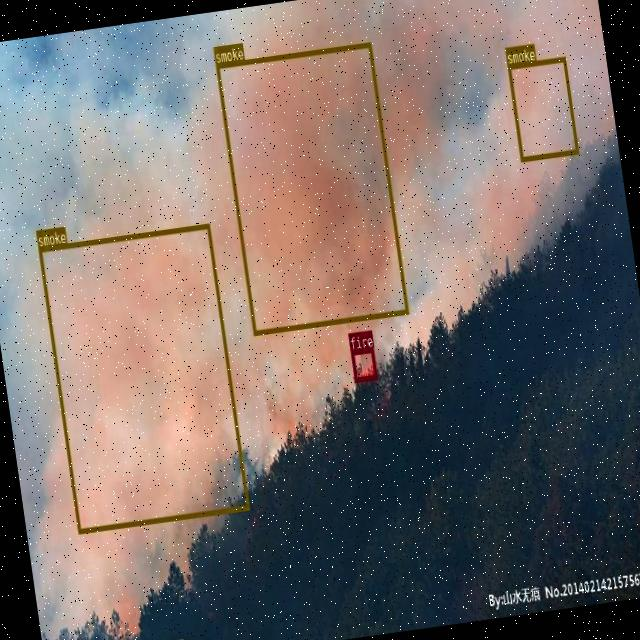fire: (350, 346, 378, 382)
smoke: (38, 222, 250, 532), (214, 42, 408, 334), (508, 56, 578, 162)
